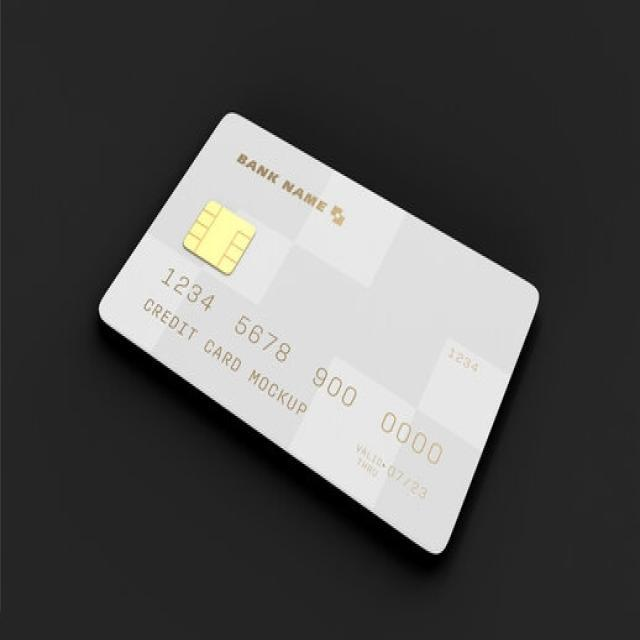payment_card: (96, 110, 540, 556)
